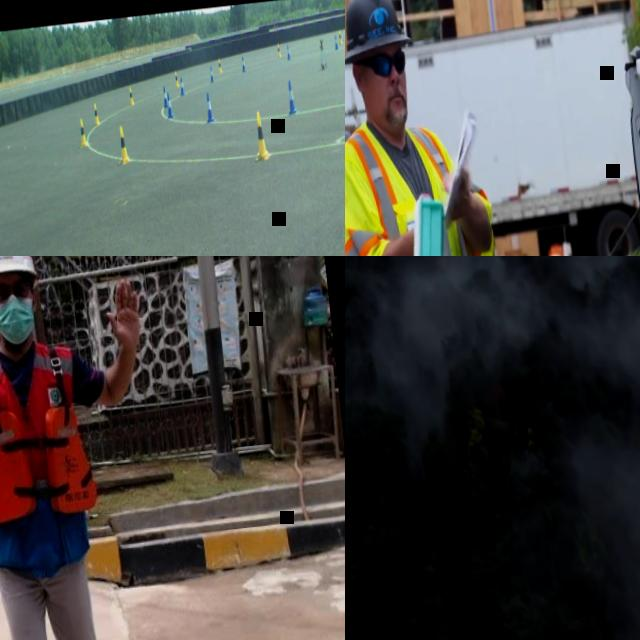Hardhat: (345, 0, 411, 62), (0, 256, 35, 280)
Mask: (0, 293, 38, 348)
NO-Mask: (369, 84, 412, 130)
Person: (0, 256, 190, 640), (345, 0, 527, 256)
Safety Cone: (251, 110, 270, 161), (115, 123, 130, 164), (285, 80, 297, 115), (203, 92, 214, 122), (78, 117, 88, 146), (164, 93, 173, 118), (92, 103, 99, 127), (162, 86, 168, 108), (128, 86, 134, 105), (178, 77, 184, 95), (208, 67, 214, 82), (333, 34, 338, 49), (241, 56, 246, 71), (174, 71, 179, 86), (286, 46, 290, 61), (218, 58, 222, 72), (276, 43, 280, 57), (338, 30, 342, 44)
Safety Vest: (345, 109, 516, 256), (0, 337, 101, 530)
vehicle: (485, 0, 640, 256), (345, 108, 386, 256)
